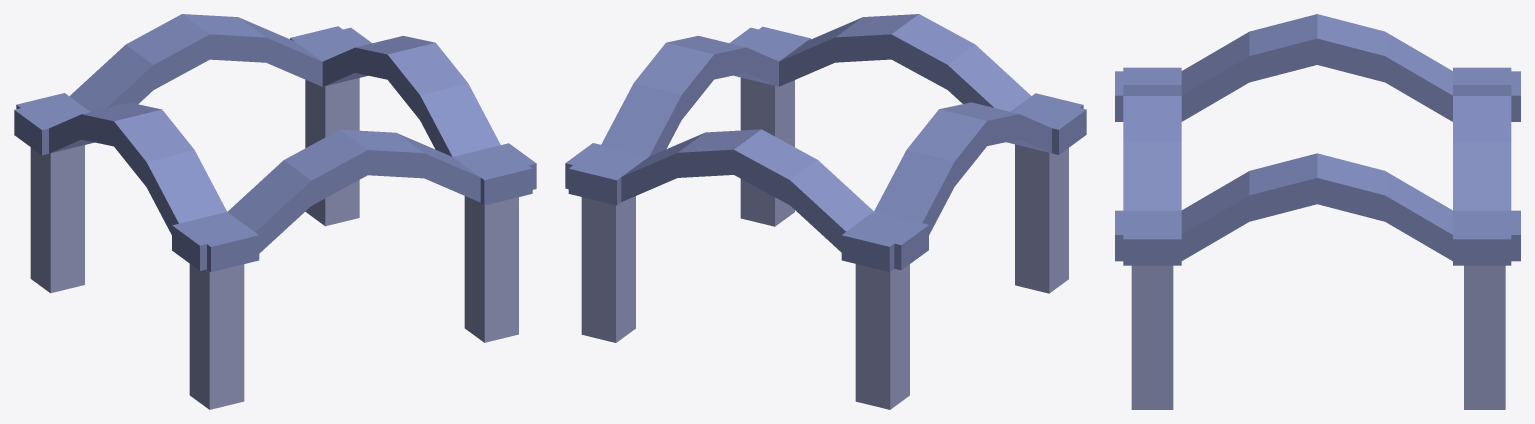
File: bridge_arch_1a_5.fbx
The picture shows the model from 3 angles, left to right: view 1: azimuth 30°, elevation 25°; view 2: azimuth 150°, elevation 25°; view 3: azimuth 270°, elevation 25°; orthographic projection. The views are drawn at different scales.
Visible parts, largest first — view 1: bridge_arch_1a_5; view 2: bridge_arch_1a_5; view 3: bridge_arch_1a_5.
Part boxes in pixels (x1,y1,x2,y2): bridge_arch_1a_5: (14,14,536,409); bridge_arch_1a_5: (565,14,1086,409); bridge_arch_1a_5: (1115,14,1520,409).
Size of the model in its own units: 9.77 by 6.24 by 9.77.
